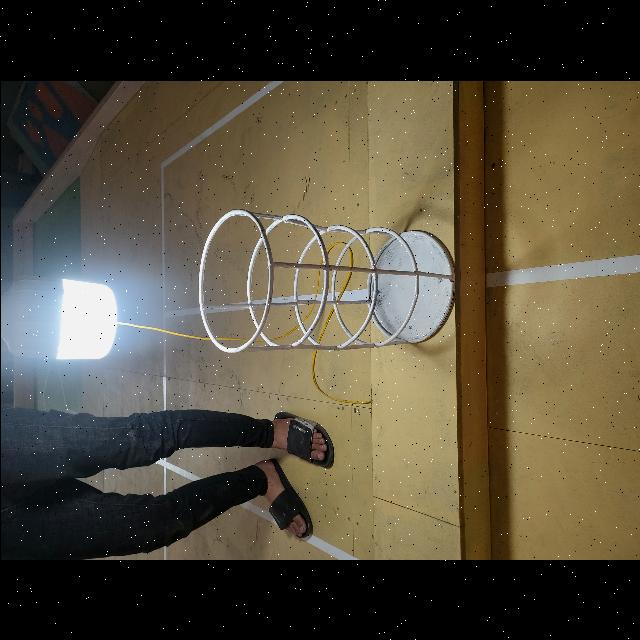S: (187, 200, 465, 355)
